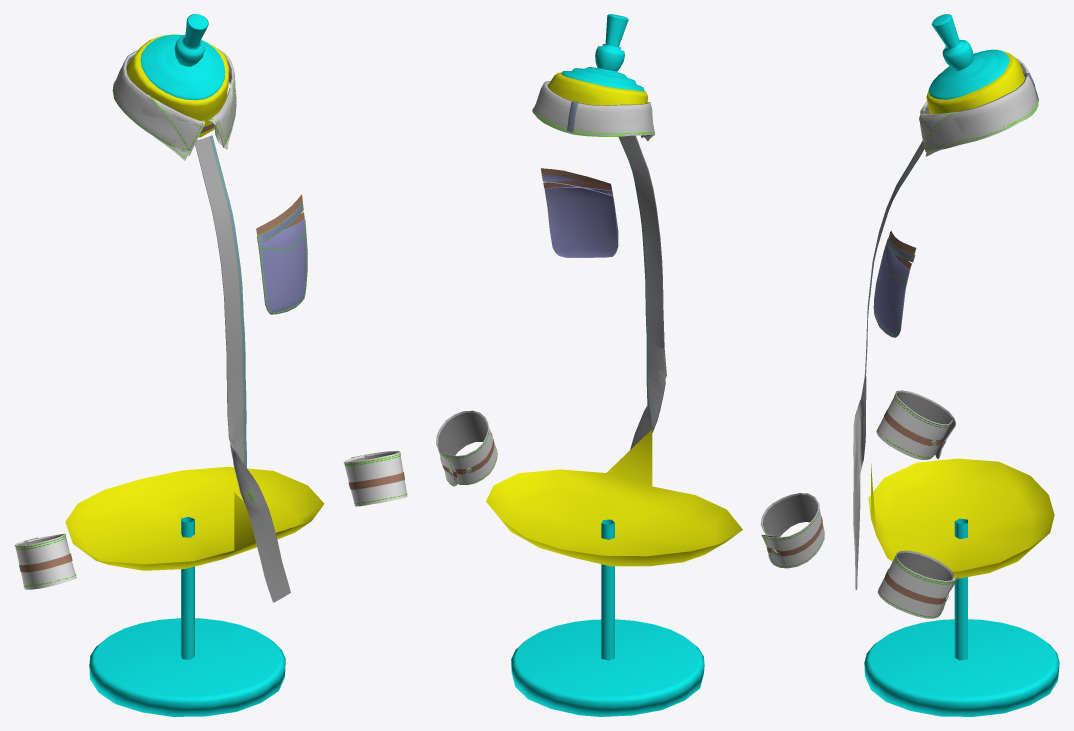
The picture shows the model from 3 angles, left to right: view 1: azimuth 30°, elevation 25°; view 2: azimuth 150°, elevation 25°; view 3: azimuth 270°, elevation 25°; orthographic projection.
Parts seen in each view (by area): view 1: jiazi, zzixianmingtong_1212_007, yuanjiaodaisanjiandaikou_007, lingjianpogu_004, yuanjiaojieyingtiezhidai_007_002, yuanjiaojieyingtiezhidai_007_001, dakouniuling_007, danchundaitiezhidai_003; view 2: jiazi, zzixianmingtong_1212_007, yuanjiaodaisanjiandaikou_007, yuanjiaojieyingtiezhidai_007_001, yuanjiaojieyingtiezhidai_007_002, dakouniuling_007, lingjianpogu_004, danchundaitiezhidai_003; view 3: jiazi, yuanjiaojieyingtiezhidai_007_001, yuanjiaojieyingtiezhidai_007_002, lingjianpogu_004, zzixianmingtong_1212_007, yuanjiaodaisanjiandaikou_007, dakouniuling_007, danchundaitiezhidai_003.
Boxes of the visible parts, x1=… form: jiazi: x1=65, y1=14, x2=324, y2=716; zzixianmingtong_1212_007: x1=195, y1=135, x2=290, y2=602; yuanjiaodaisanjiandaikou_007: x1=257, y1=212, x2=307, y2=314; lingjianpogu_004: x1=113, y1=48, x2=236, y2=155; yuanjiaojieyingtiezhidai_007_002: x1=343, y1=451, x2=407, y2=506; yuanjiaojieyingtiezhidai_007_001: x1=14, y1=533, x2=76, y2=589; dakouniuling_007: x1=112, y1=63, x2=235, y2=160; danchundaitiezhidai_003: x1=256, y1=194, x2=303, y2=243; jiazi: x1=486, y1=14, x2=742, y2=716; zzixianmingtong_1212_007: x1=618, y1=135, x2=666, y2=449; yuanjiaodaisanjiandaikou_007: x1=543, y1=181, x2=618, y2=257; yuanjiaojieyingtiezhidai_007_001: x1=760, y1=493, x2=824, y2=568; yuanjiaojieyingtiezhidai_007_002: x1=436, y1=410, x2=497, y2=486; dakouniuling_007: x1=533, y1=82, x2=653, y2=141; lingjianpogu_004: x1=532, y1=81, x2=654, y2=137; danchundaitiezhidai_003: x1=540, y1=168, x2=612, y2=196; jiazi: x1=864, y1=14, x2=1059, y2=716; yuanjiaojieyingtiezhidai_007_001: x1=876, y1=390, x2=955, y2=459; yuanjiaojieyingtiezhidai_007_002: x1=877, y1=550, x2=959, y2=618; lingjianpogu_004: x1=919, y1=58, x2=1037, y2=152; zzixianmingtong_1212_007: x1=853, y1=140, x2=924, y2=590; yuanjiaodaisanjiandaikou_007: x1=873, y1=232, x2=911, y2=337; dakouniuling_007: x1=919, y1=74, x2=1037, y2=156; danchundaitiezhidai_003: x1=887, y1=231, x2=916, y2=262.
Size of the model in its own units: 57.02 by 96.05 by 27.19.
